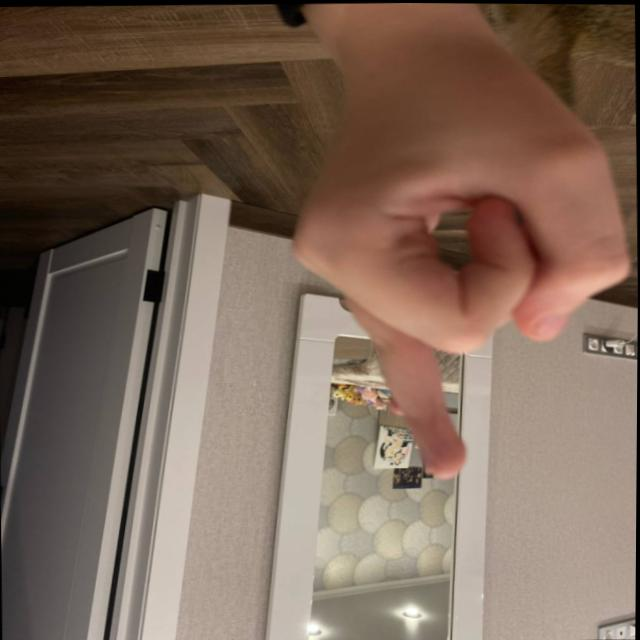i-: (272, 68, 627, 480)
